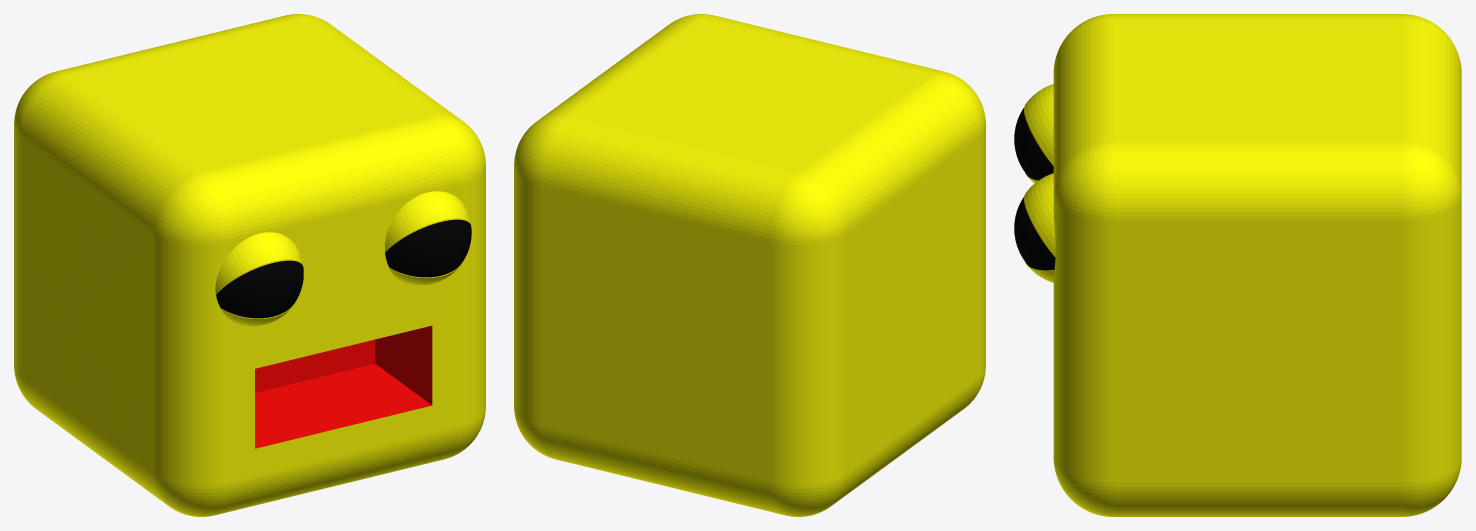
3 views of the same model, side by side, from view 1: azimuth 30°, elevation 25°; view 2: azimuth 150°, elevation 25°; view 3: azimuth 270°, elevation 25° (orthographic). The views are drawn at different scales.
Visible parts, largest first — view 1: Cube, Cube.001, Sphere, Blink, Sphere.002; view 2: Cube; view 3: Cube, Blink, Sphere.
Boxes of the visible parts, box(x1,y1,x2,y2) form: Cube: box(14, 14, 485, 516); Cube.001: box(255, 325, 432, 448); Sphere: box(216, 219, 471, 318); Blink: box(215, 191, 471, 294); Sphere.002: box(220, 258, 464, 326); Cube: box(514, 14, 985, 516); Cube: box(1053, 14, 1461, 516); Blink: box(1024, 84, 1055, 257); Sphere: box(1014, 107, 1055, 270).
Bounding box in the file's own units: 200 × 200 × 219.
